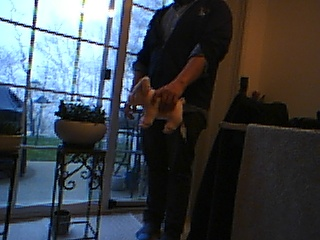piggy: (125, 74, 188, 134)
